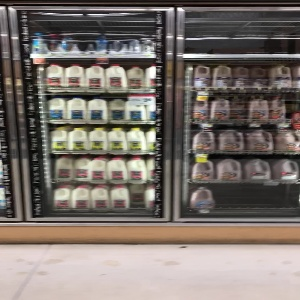void: (217, 182, 300, 214)
